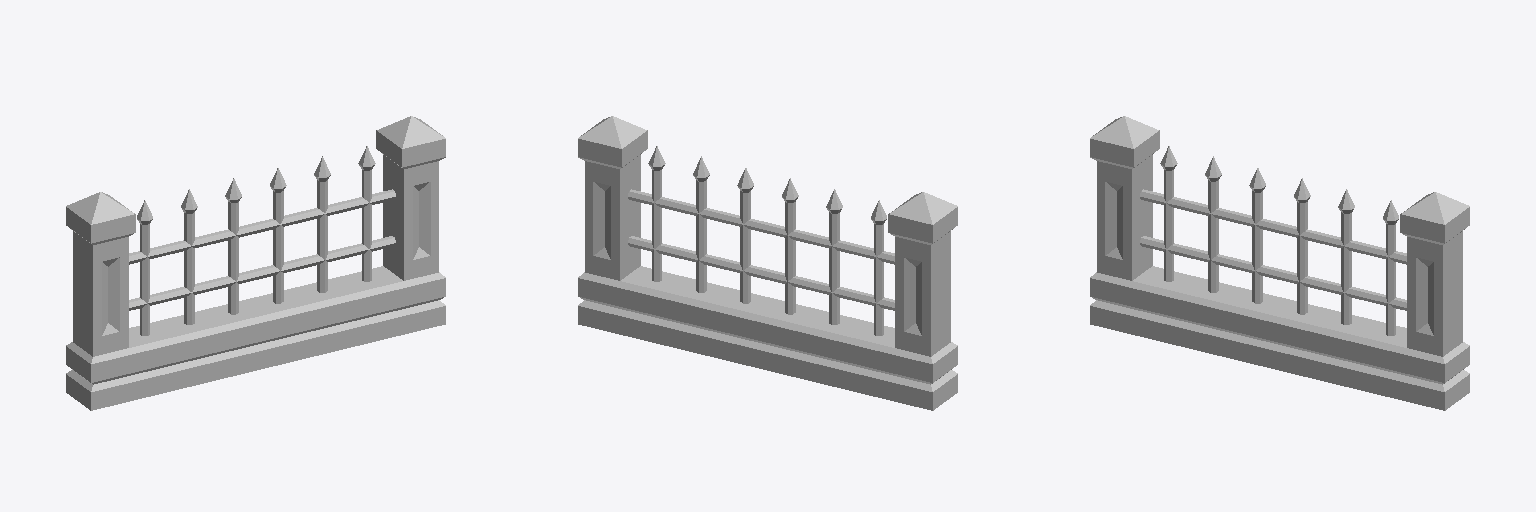
Rendered from fence.obj.
3 renders of one model, left to right at view 1: azimuth 30°, elevation 25°; view 2: azimuth 150°, elevation 25°; view 3: azimuth 330°, elevation 25°, orthographic.
Parts seen in each view (by area): view 1: fence_Cube.045; view 2: fence_Cube.045; view 3: fence_Cube.045.
Boxes of the visible parts, x1,y1,x2,y2 form: fence_Cube.045: [66, 116, 445, 410]; fence_Cube.045: [578, 116, 957, 410]; fence_Cube.045: [1090, 116, 1469, 410].
Size of the model in its own units: 4 by 2.2 by 0.5.